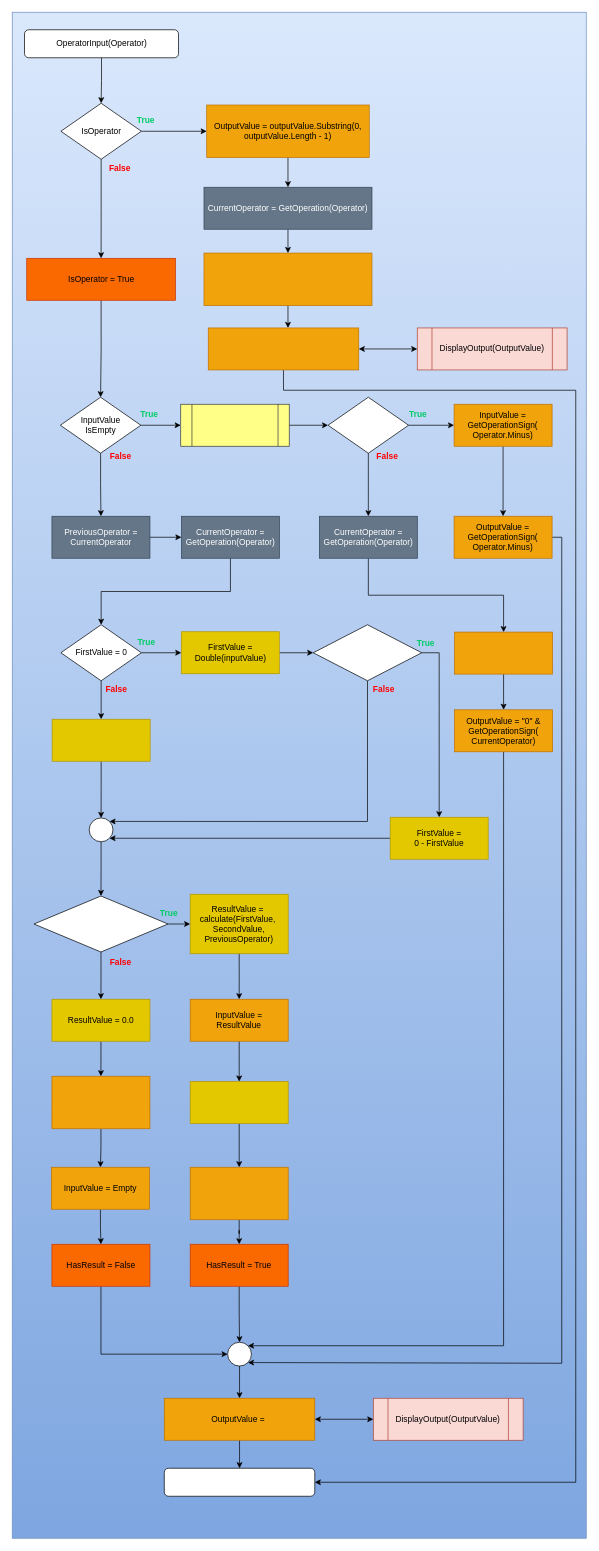
This 599x1551 diagram has some shape labels left out. The shapes that lost their labels are listed below. From the top down, each one's centre as x and y in pixels, then its label:
[287,279]: OutputValue = OutputValue & GetOperationSign( CurrentOperator)
[283,348]: OutputValue
[234,425]: ResetValues()
[368,425]: Operator IsMinus
[367,652]: PreviousOperator = Operator.MINUS
[503,652]: InputValue = "0"
[100,740]: SecondValue = Double(inputValue)
[100,923]: PreviousOperator <> Operator.None
[100,1102]: OutputValue = InputValue & GetOperationSign( CurrentOperator)
[238,1102]: FirstValue = ResultValue
[238,1193]: OutputValue = ResultValue & GetOperationSign( CurrentOperator)
[239,1482]: Return
